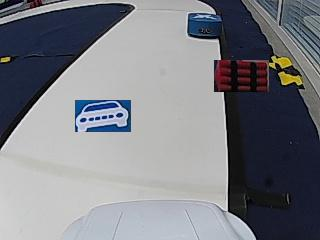prop: (187, 13, 221, 39)
